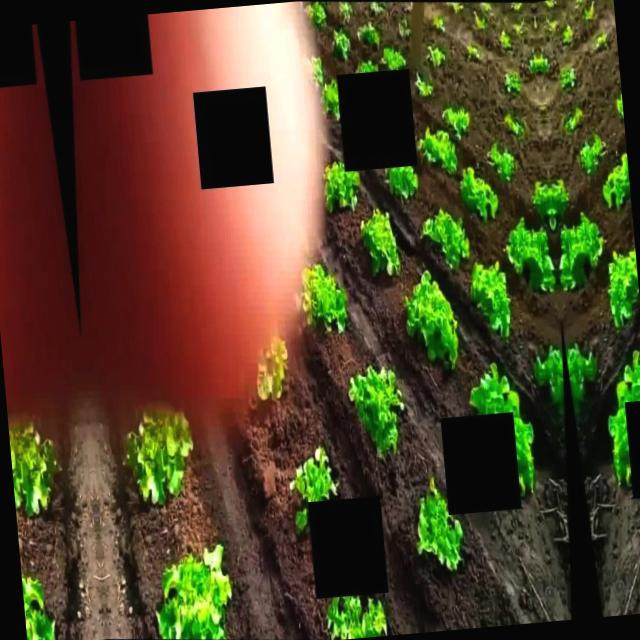healthy: (464, 361, 538, 496), (122, 400, 202, 514), (146, 545, 238, 640), (344, 364, 411, 464), (401, 267, 462, 372), (410, 472, 469, 577), (8, 413, 60, 524), (601, 350, 640, 484), (462, 256, 518, 348), (564, 337, 604, 460), (532, 340, 572, 462), (505, 216, 558, 302), (553, 212, 606, 298), (294, 260, 348, 340), (288, 450, 340, 530), (321, 586, 390, 640), (244, 330, 292, 407), (418, 204, 472, 272), (600, 245, 640, 335), (358, 207, 403, 284), (20, 560, 61, 640), (318, 159, 364, 216), (454, 164, 498, 222), (414, 126, 461, 176), (600, 152, 632, 210), (381, 158, 423, 202), (484, 140, 522, 186), (572, 132, 610, 178), (440, 99, 474, 140), (548, 172, 574, 223), (527, 174, 552, 225), (322, 76, 346, 124), (381, 42, 408, 74), (412, 68, 436, 102), (331, 27, 354, 62), (358, 20, 382, 52), (425, 41, 448, 70), (308, 1, 330, 31), (502, 110, 524, 139), (562, 105, 584, 134), (470, 8, 490, 36), (334, 0, 354, 26), (579, 0, 599, 26), (611, 86, 624, 125), (502, 68, 520, 95), (560, 63, 578, 90), (352, 58, 378, 76), (464, 40, 483, 64), (396, 14, 412, 41), (560, 22, 576, 49), (592, 30, 610, 54), (497, 27, 512, 55), (367, 0, 386, 18), (429, 15, 446, 34), (526, 54, 540, 77), (538, 53, 552, 76), (446, 0, 463, 18), (603, 0, 613, 4)
